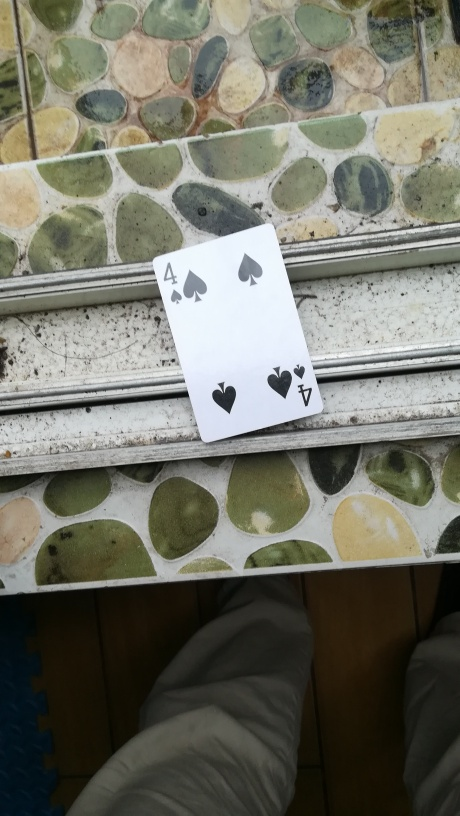ht 4: (145, 220, 330, 449)
